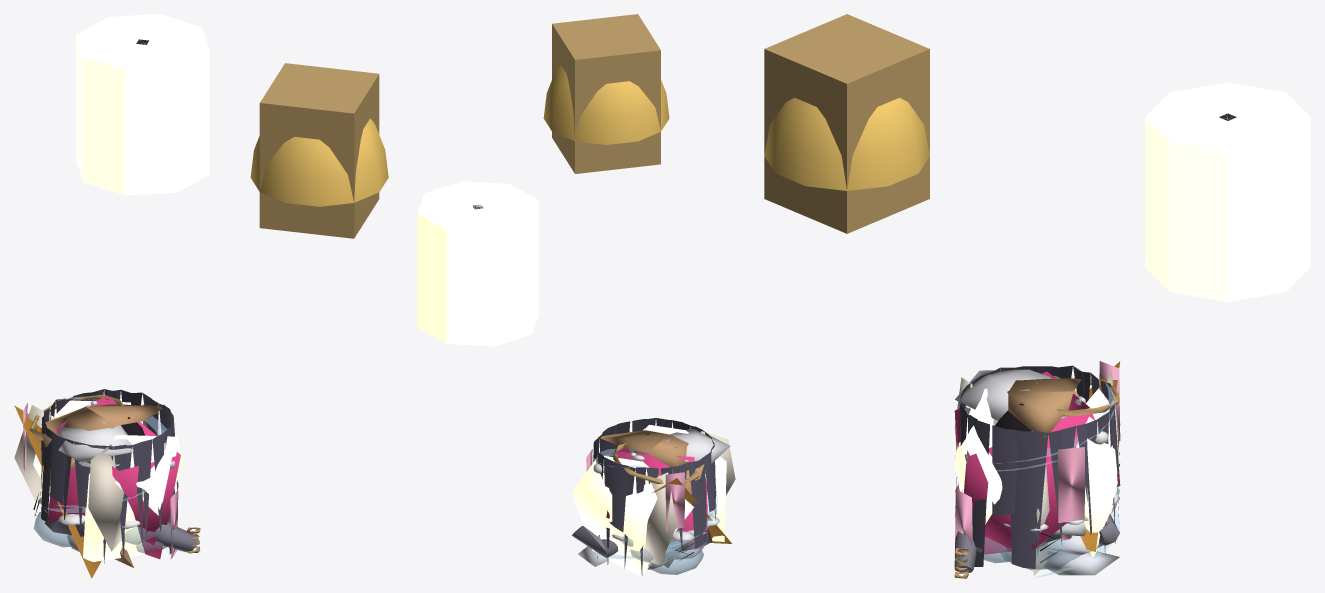
File: maitre-phare-leger.glb
The picture shows the model from 3 angles, left to right: view 1: azimuth 30°, elevation 25°; view 2: azimuth 150°, elevation 25°; view 3: azimuth 270°, elevation 25°; orthographic projection. The views are drawn at different scales.
Parts seen in each view (by area): view 1: maitre_phare_corps, maitre_phare_lanterne, maitre_phare_cloche, maitre_phare_brume; view 2: maitre_phare_corps, maitre_phare_lanterne, maitre_phare_cloche, maitre_phare_brume; view 3: maitre_phare_lanterne, maitre_phare_corps, maitre_phare_cloche, maitre_phare_brume.
Part boxes in pixels (x1,y1,x2,y2): maitre_phare_corps: (14, 389, 200, 578); maitre_phare_lanterne: (76, 14, 209, 195); maitre_phare_cloche: (250, 63, 388, 238); maitre_phare_brume: (40, 396, 167, 515); maitre_phare_corps: (572, 418, 735, 576); maitre_phare_lanterne: (417, 181, 538, 346); maitre_phare_cloche: (543, 14, 669, 173); maitre_phare_brume: (591, 448, 717, 558); maitre_phare_lanterne: (1145, 82, 1310, 302); maitre_phare_corps: (954, 361, 1120, 578); maitre_phare_cloche: (764, 14, 929, 233); maitre_phare_brume: (955, 382, 1119, 578).
Size of the model in its own units: 4.2 by 7.65 by 6.6.
